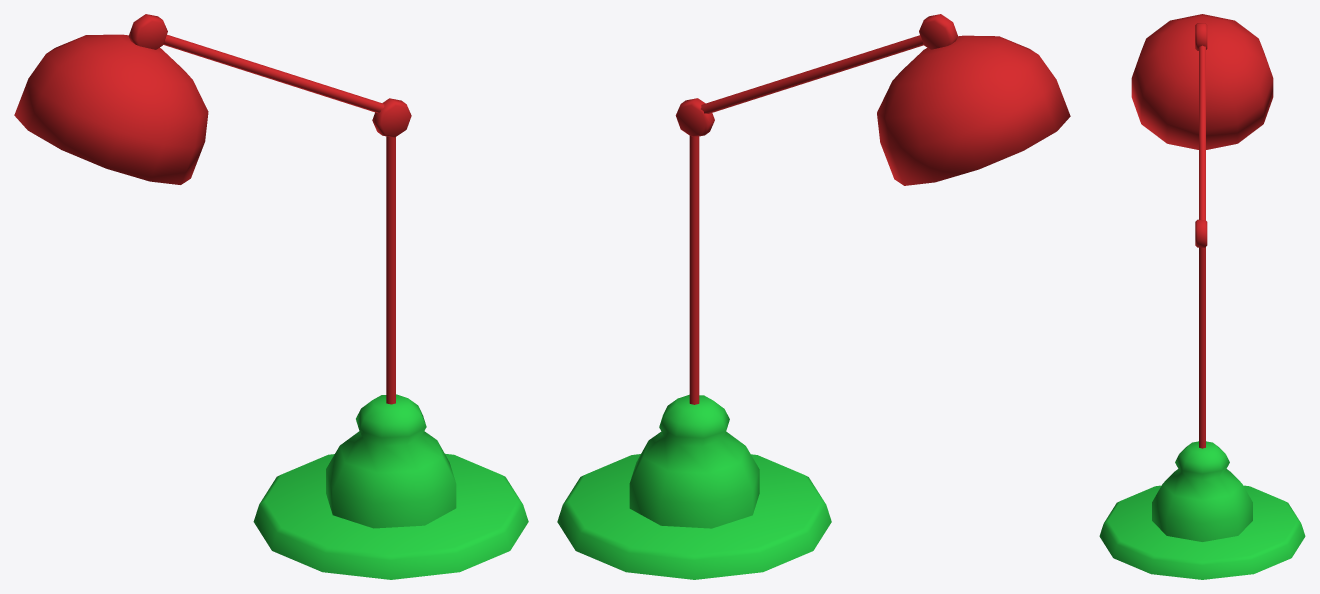
The model's file is MOD_LAM_Table_lamp_04.fbx.
3 renders of one model, left to right at view 1: azimuth 30°, elevation 25°; view 2: azimuth 150°, elevation 25°; view 3: azimuth 270°, elevation 25°, orthographic. The views are drawn at different scales.
Visible parts, largest first — view 1: HSHP_MOD_Table_lamp_04; view 2: HSHP_MOD_Table_lamp_04; view 3: HSHP_MOD_Table_lamp_04.
Part boxes in pixels (x1,y1,x2,y2): HSHP_MOD_Table_lamp_04: (14,14,528,579); HSHP_MOD_Table_lamp_04: (557,14,1070,579); HSHP_MOD_Table_lamp_04: (1099,14,1305,579).
Bounding box in the file's own units: 0.5382 × 0.6033 × 0.2658.
